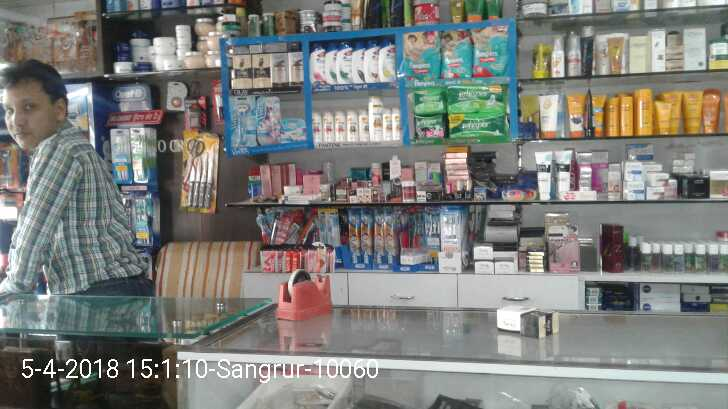venus: (258, 95, 280, 146), (233, 96, 254, 146), (284, 117, 306, 141)
